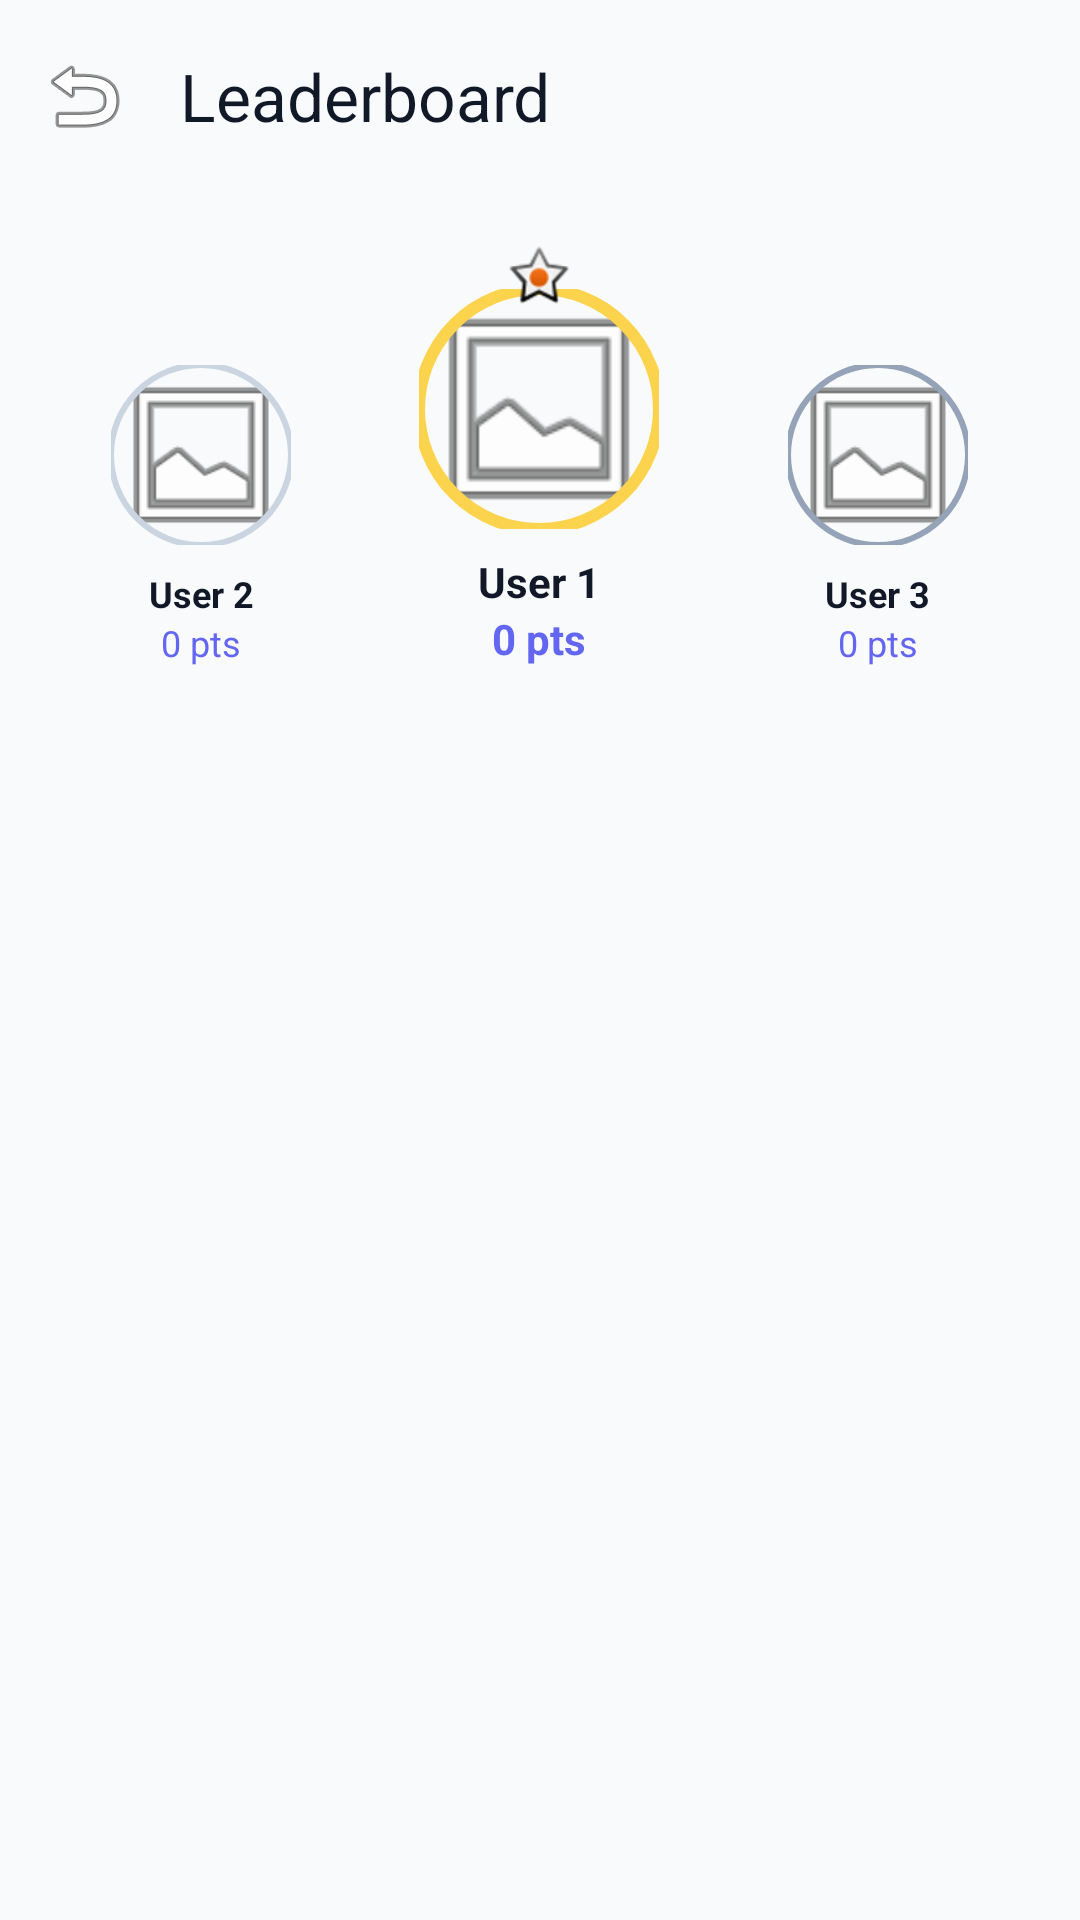

Named icons in this screenshot (1080×1920) and their centers, point (x, y):
gallery: point (539, 409), point (201, 455), point (878, 455)
star on: point (539, 275)
